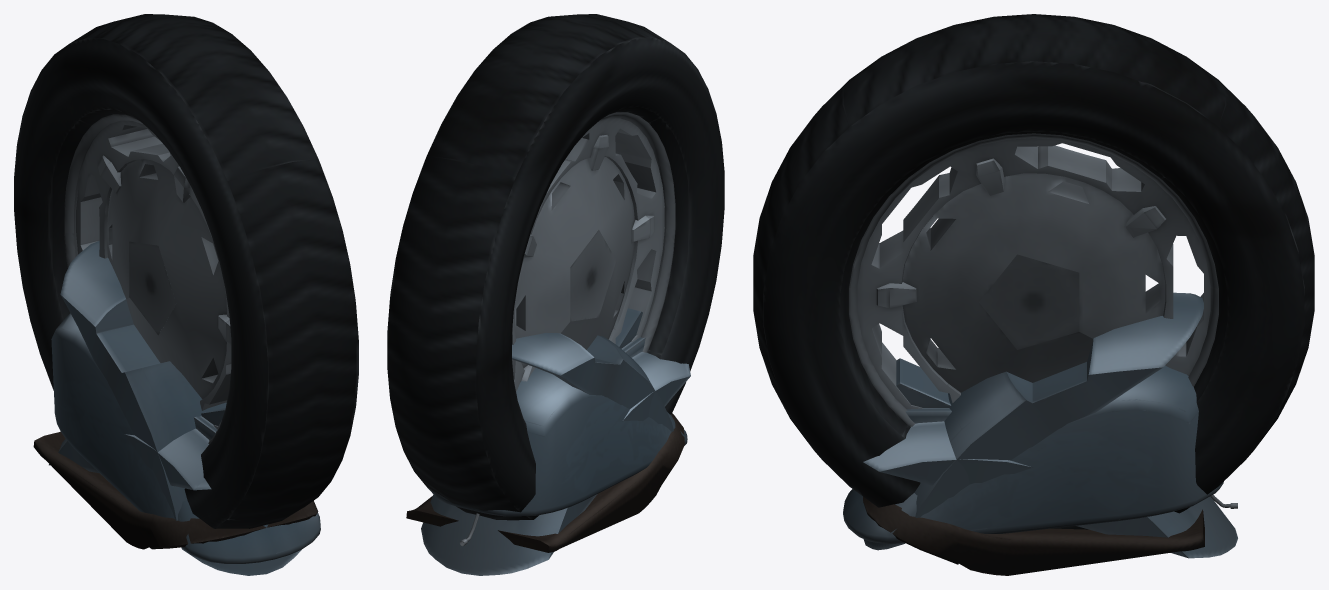
Rendered from HarleyCustom_Items.fbx.
3 renders of one model, left to right at view 1: azimuth 30°, elevation 25°; view 2: azimuth 150°, elevation 25°; view 3: azimuth 270°, elevation 25°, orthographic. The views are drawn at different scales.
Parts seen in each view (by area): view 1: hc_WI_Tire, hc_WI_FenderFront, hc_WI_GasTank, hc_WI_Seat, hc_WI_FenderRear; view 2: hc_WI_Tire, hc_WI_GasTank, hc_WI_FenderRear, hc_WI_FenderFront, hc_WI_Seat; view 3: hc_WI_Tire, hc_WI_GasTank, hc_WI_FenderFront, hc_WI_Seat, hc_WI_FenderRear.
Part boxes in pixels (x1=…): hc_WI_Tire: x1=14, y1=14, x2=358, y2=528; hc_WI_FenderFront: x1=60, y1=240, x2=301, y2=575; hc_WI_GasTank: x1=51, y1=313, x2=320, y2=563; hc_WI_Seat: x1=33, y1=432, x2=318, y2=549; hc_WI_FenderRear: x1=49, y1=408, x2=225, y2=490; hc_WI_Tire: x1=387, y1=14, x2=724, y2=520; hc_WI_GasTank: x1=427, y1=368, x2=687, y2=516; hc_WI_FenderRear: x1=421, y1=308, x2=690, y2=575; hc_WI_FenderFront: x1=512, y1=333, x2=673, y2=431; hc_WI_Seat: x1=406, y1=413, x2=684, y2=552; hc_WI_Tire: x1=753, y1=14, x2=1314, y2=529; hc_WI_GasTank: x1=843, y1=365, x2=1223, y2=543; hc_WI_FenderFront: x1=863, y1=292, x2=1203, y2=550; hc_WI_Seat: x1=863, y1=496, x2=1204, y2=575; hc_WI_FenderRear: x1=863, y1=358, x2=1237, y2=558.
Bounding box in the file's own units: 2.57 × 8.12 × 8.1.
